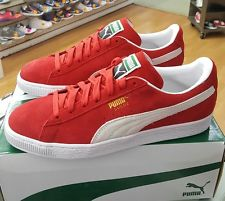Puma Suede Low Red: (3, 49, 220, 152), (14, 15, 191, 98)
